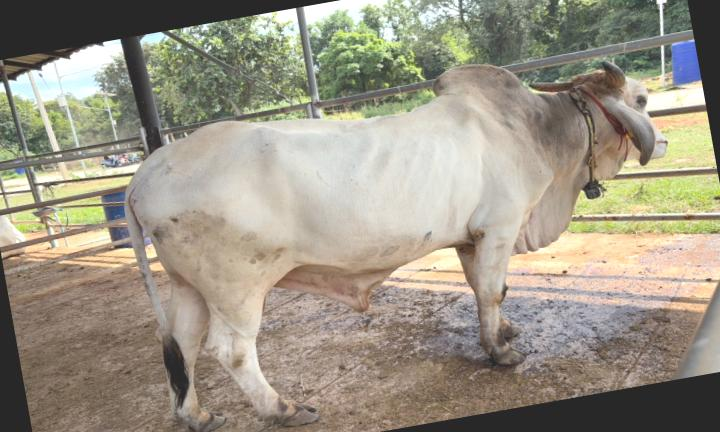Brahman: (124, 61, 667, 432)
